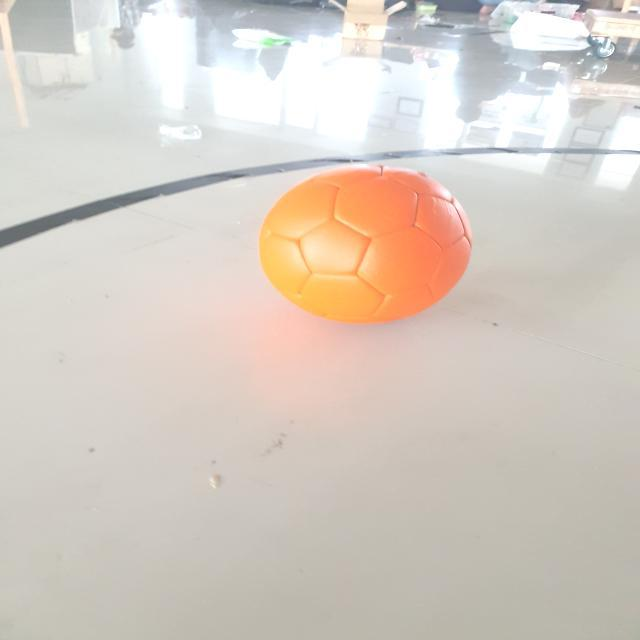bola: (211, 147, 498, 344)
